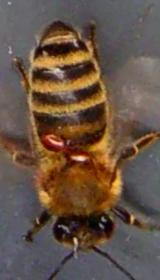varroa_mite: (56, 140, 96, 171), (36, 124, 66, 155)
